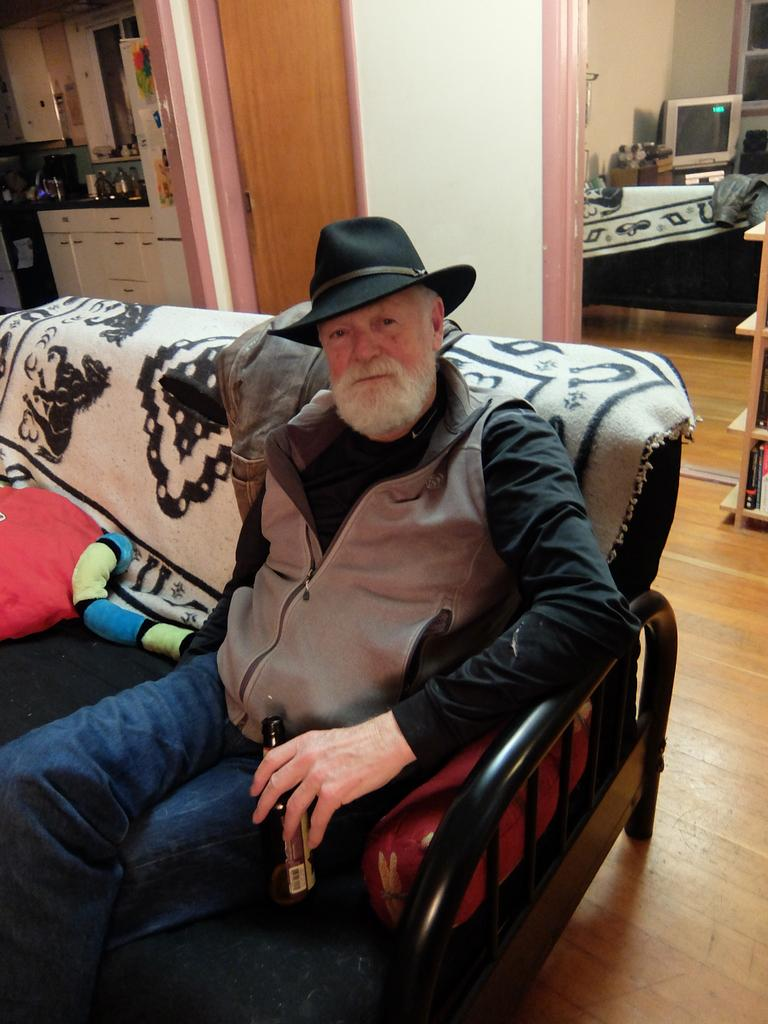Sem Máscara: (312, 290, 424, 437)
